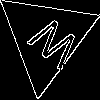W: (21, 13, 82, 79)
